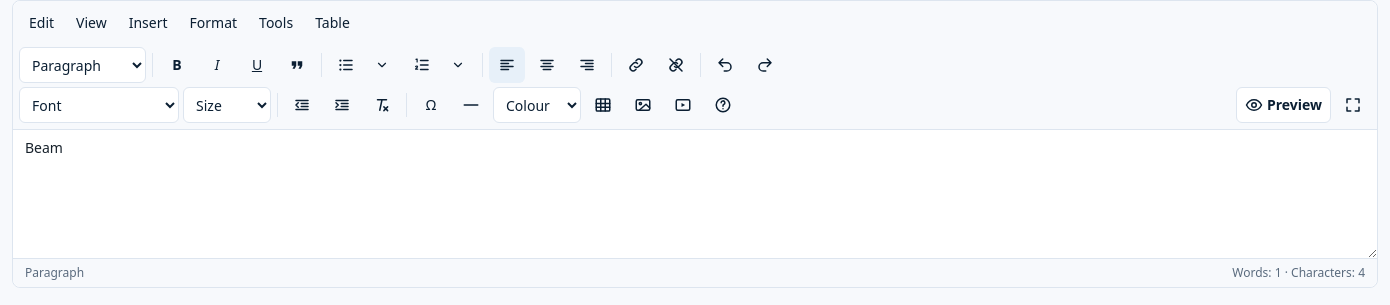
Scenario: MarkdownTextarea blocks › aligns the paragraph and shows the alignment as pressed
What coordinates should you click on to do the following:
click the button named "Align centre"
I would click on:
 (547, 65)
Its box is top-left (529, 47), bottom-right (565, 83).
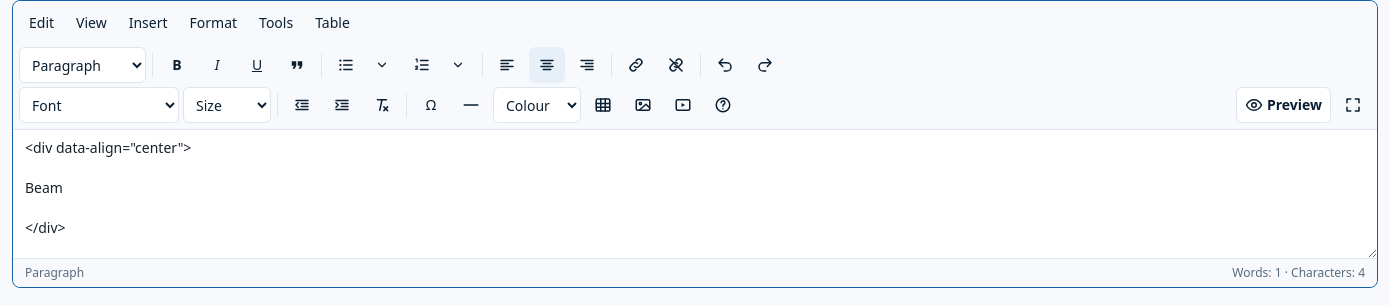
What coordinates should you click on to do the following:
click the button named "Align left"
I would click on:
 (507, 65)
Its box is top-left (489, 47), bottom-right (525, 83).
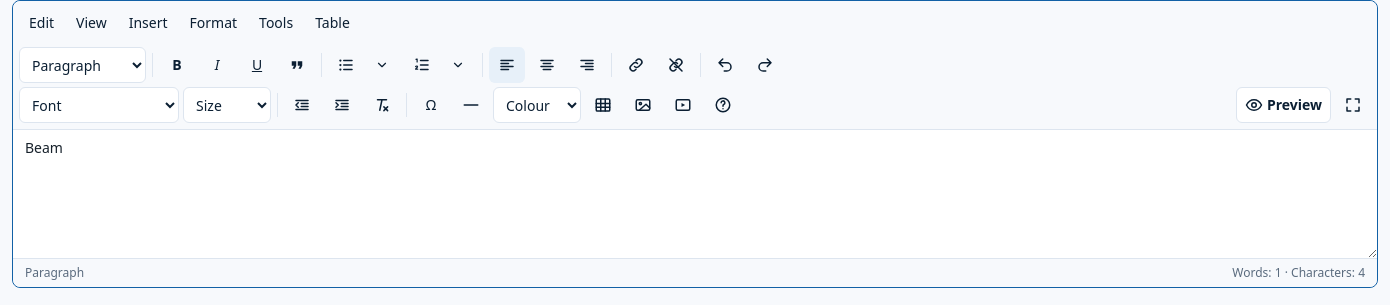
Expected: the text box named "Body" holds "Beam", top-left (13, 130), bottom-right (1377, 258)
